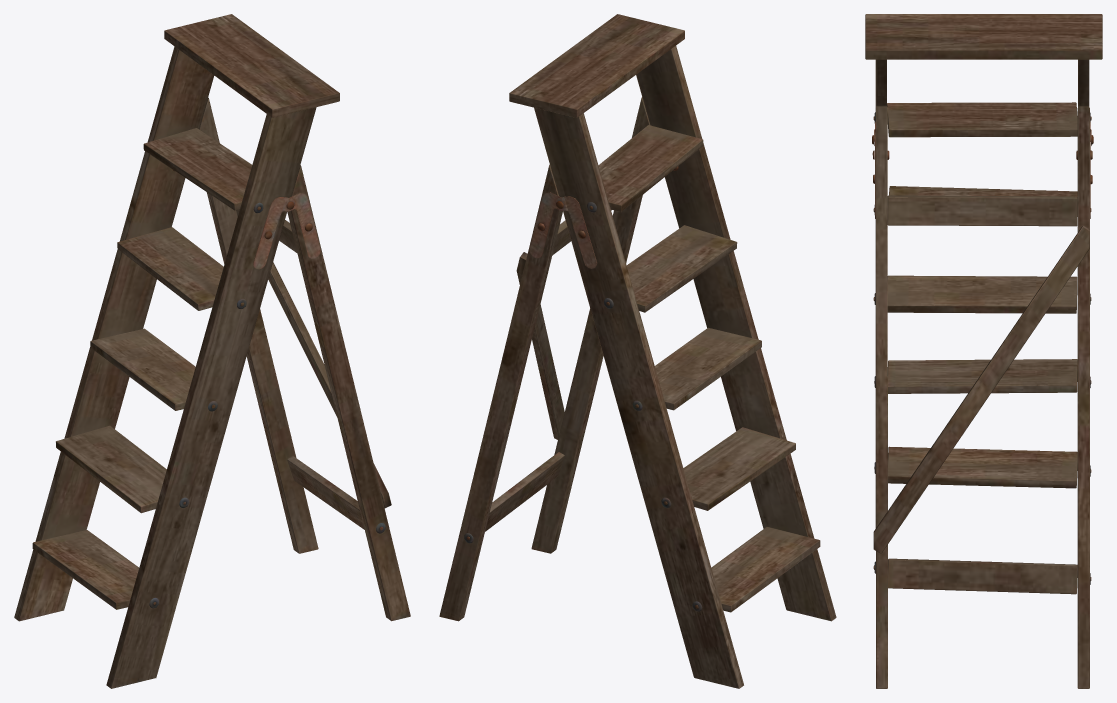
Rendered from wooden_ladder_02.glb.
3 renders of one model, left to right at view 1: azimuth 30°, elevation 25°; view 2: azimuth 150°, elevation 25°; view 3: azimuth 270°, elevation 25°, orthographic. The views are drawn at different scales.
Parts seen in each view (by area): view 1: wooden_ladder_02; view 2: wooden_ladder_02; view 3: wooden_ladder_02.
Boxes of the visible parts, x1,y1,x2,y2 form: wooden_ladder_02: (14, 14, 410, 688); wooden_ladder_02: (439, 14, 836, 688); wooden_ladder_02: (865, 14, 1102, 688).
Size of the model in its own units: 0.9895 by 1.72 by 0.6181.
Materials: 1 (1 with a texture image).
